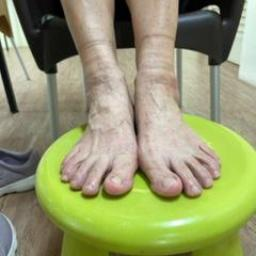Front View -Both Feet-: (43, 42, 245, 218)
